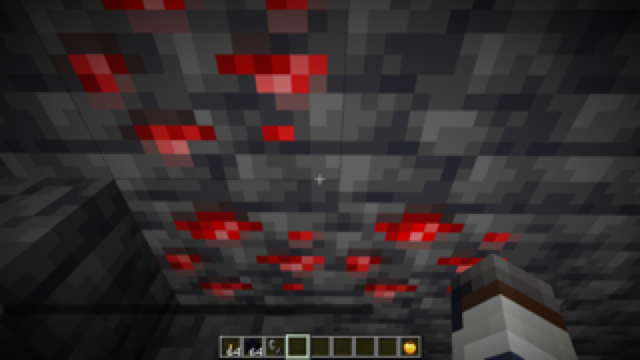redstone: (21, 1, 528, 316)
